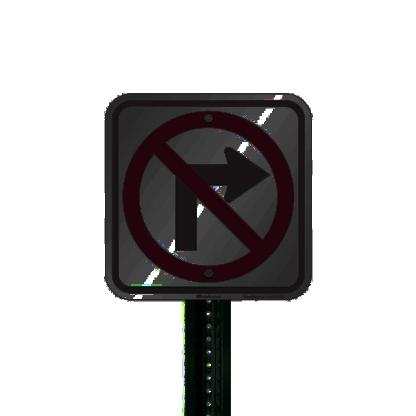No right turn: (110, 94, 306, 288)
